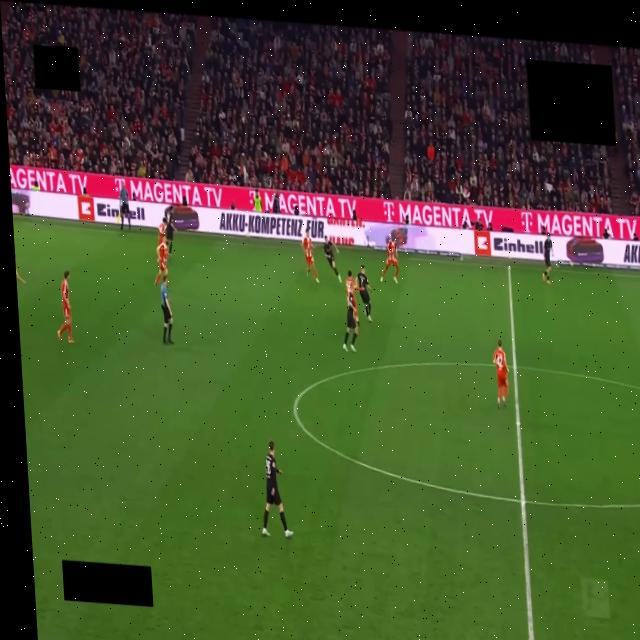player: (262, 441, 293, 538), (57, 271, 73, 344), (493, 340, 508, 408), (381, 237, 399, 283), (343, 293, 357, 352), (303, 230, 318, 283), (357, 266, 371, 321), (323, 237, 340, 282), (345, 271, 359, 324), (155, 241, 168, 286), (165, 211, 175, 255), (543, 233, 551, 284), (158, 214, 166, 245), (16, 268, 25, 285)
referee: (160, 275, 173, 344)
